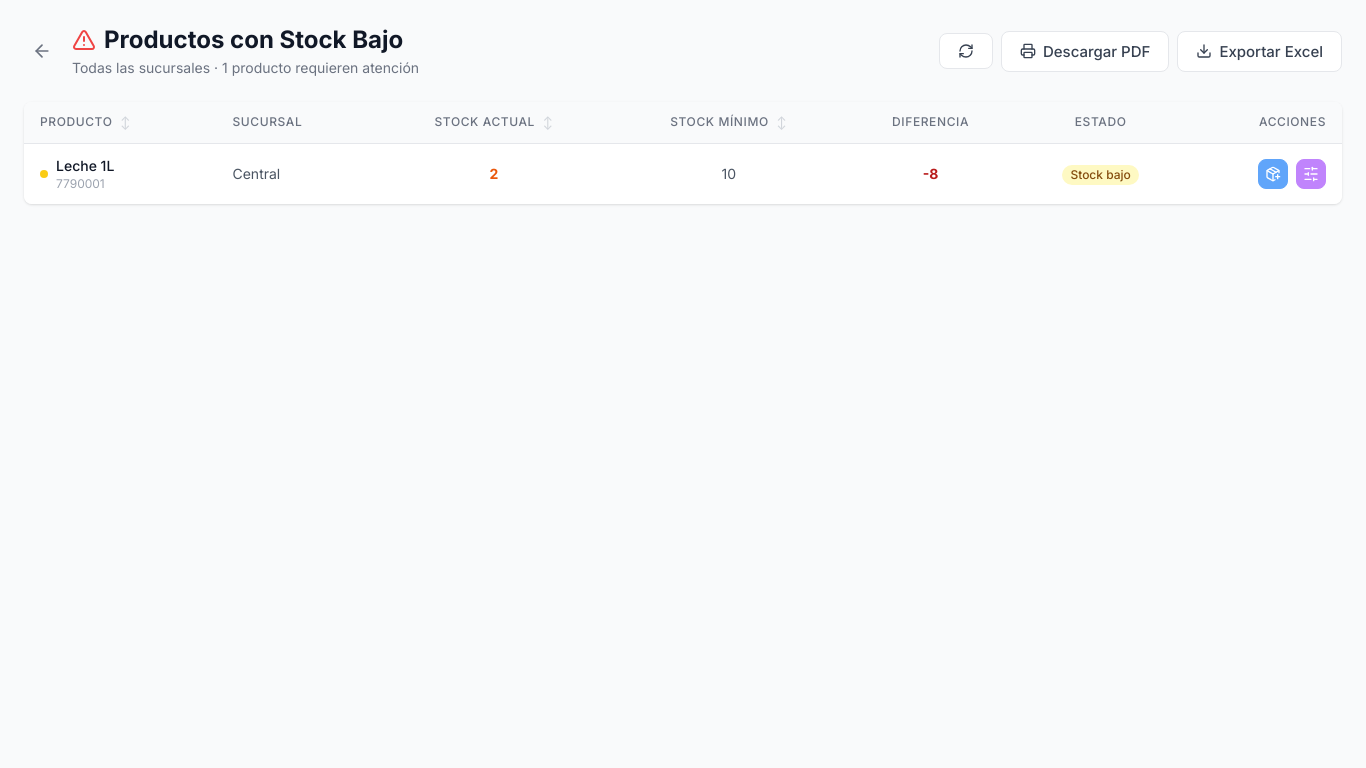
it: StockAlerts › abre el modal "Agregar Stock" al hacer click en el botón correspondiente
Expected: the text "Leche 1L" is shown, [56,156,114,176]
Click the button titled "Agregar stock".
click(1273, 174)  # box [1258,159,1288,189]
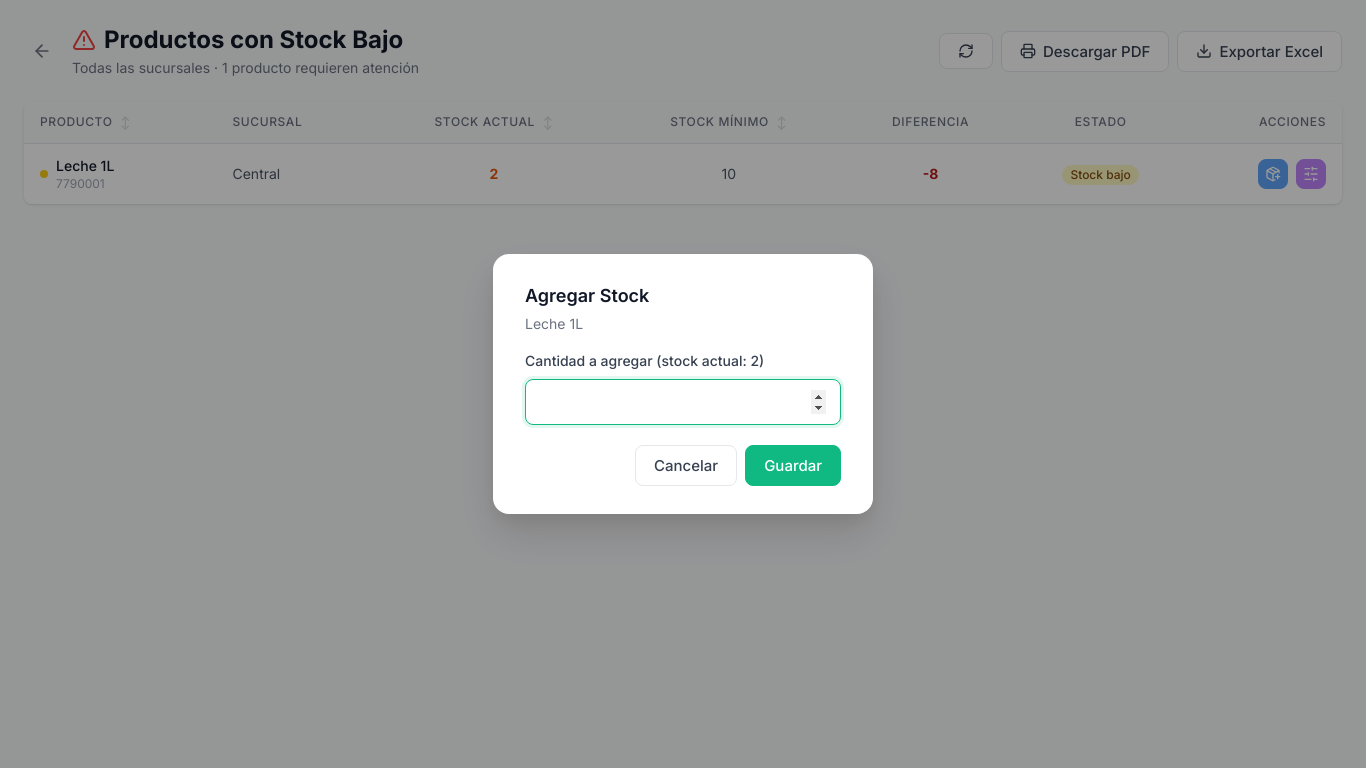
Result: the heading "Agregar Stock" is shown at [525,285,649,306]
Result: the text "Cantidad a agregar (stock actual: 2)" is shown at [525,352,764,369]
